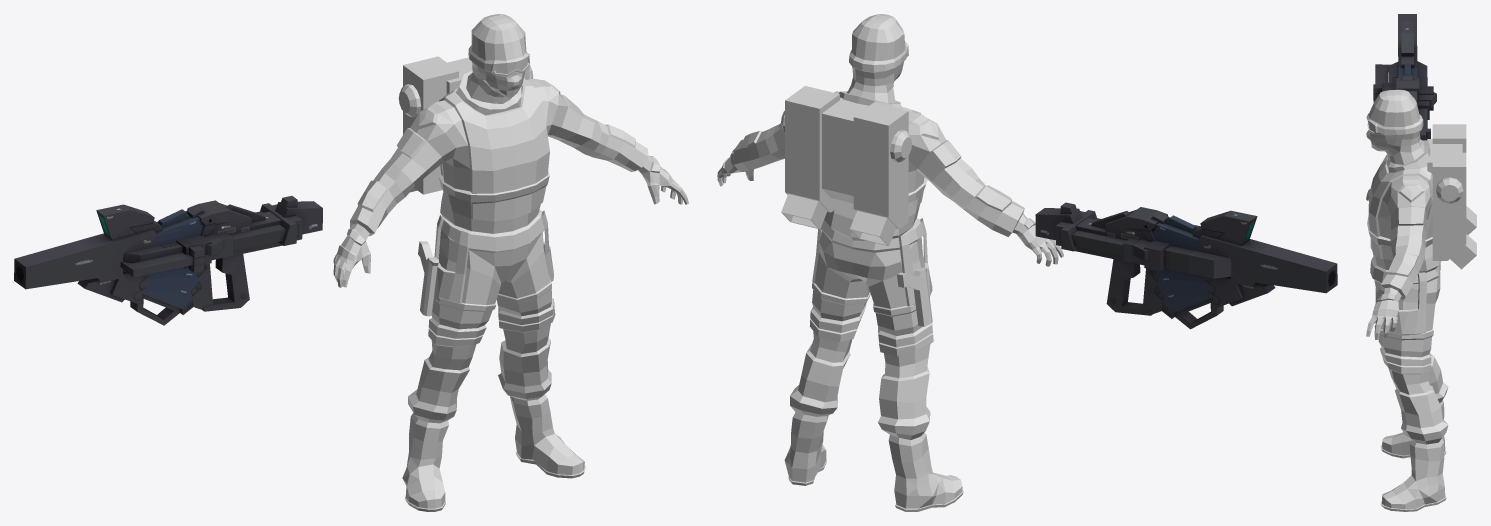
Rendered from figure.fbx.
The picture shows the model from 3 angles, left to right: view 1: azimuth 30°, elevation 25°; view 2: azimuth 150°, elevation 25°; view 3: azimuth 270°, elevation 25°; orthographic projection. The views are drawn at different scales.
Visible parts, largest first — view 1: figure, gun; view 2: figure, gun; view 3: figure, gun.
Part boxes in pixels (bbox=[...]): figure: bbox=[333, 14, 688, 511]; gun: bbox=[14, 196, 322, 325]; figure: bbox=[717, 14, 1063, 511]; gun: bbox=[1035, 202, 1337, 329]; figure: bbox=[1366, 89, 1476, 511]; gun: bbox=[1373, 14, 1436, 140].
Bounding box in the file's own units: 262 × 183 × 47.5.
